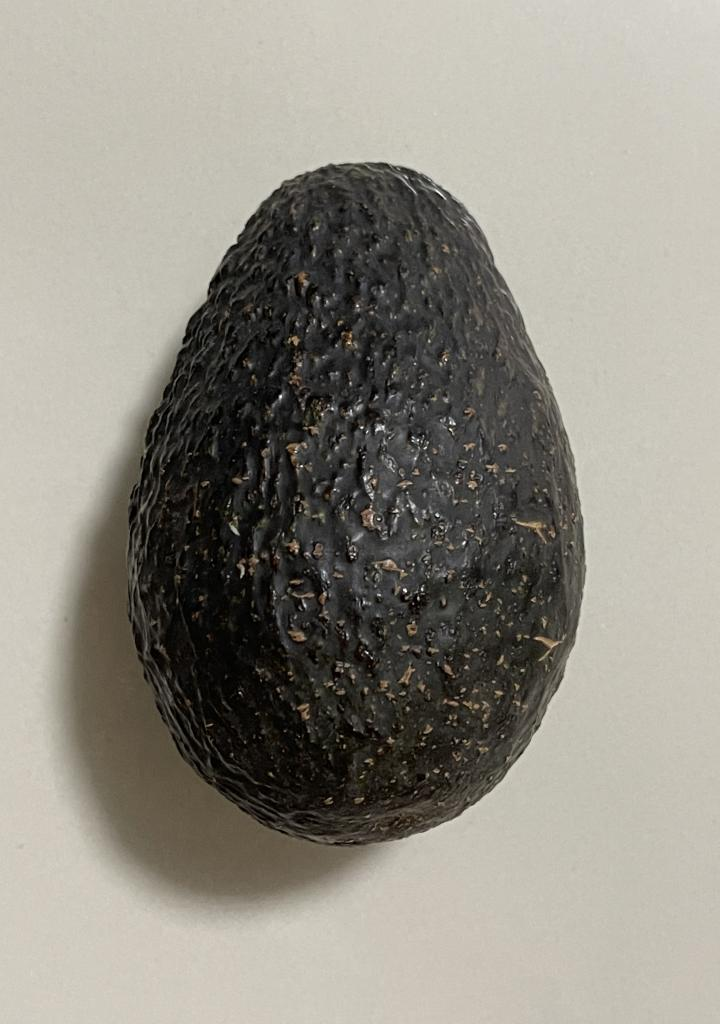Level3: (114, 150, 594, 860)
